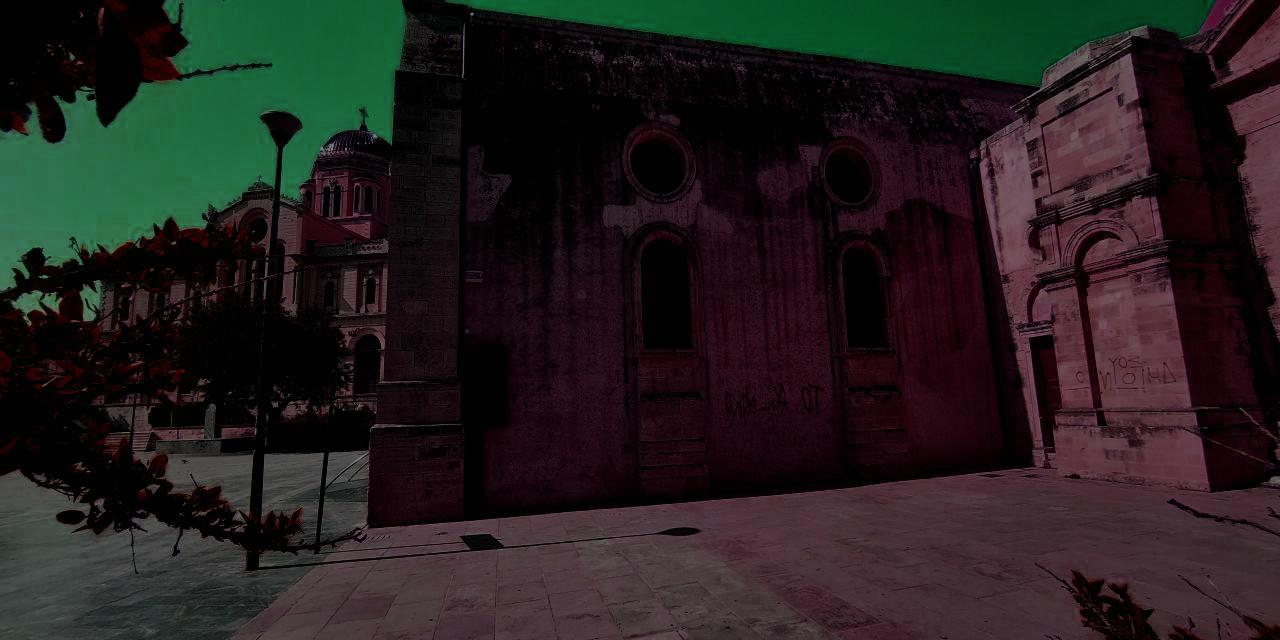Agia Aikaterini: (365, 3, 1280, 538)
